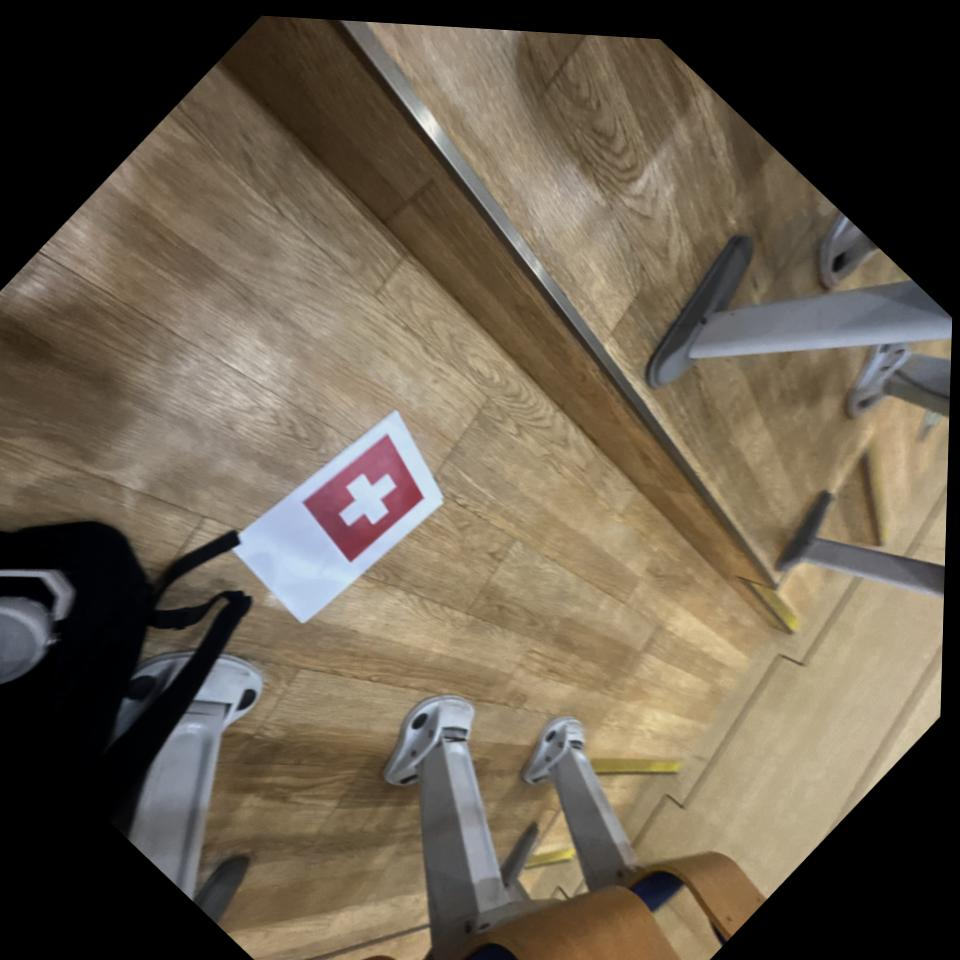rescue point: (282, 409, 452, 586)
